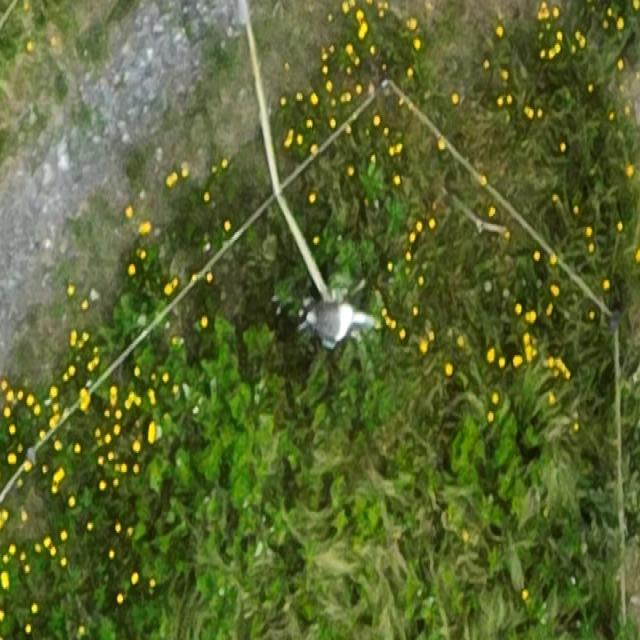umineko: (310, 307, 359, 341)
